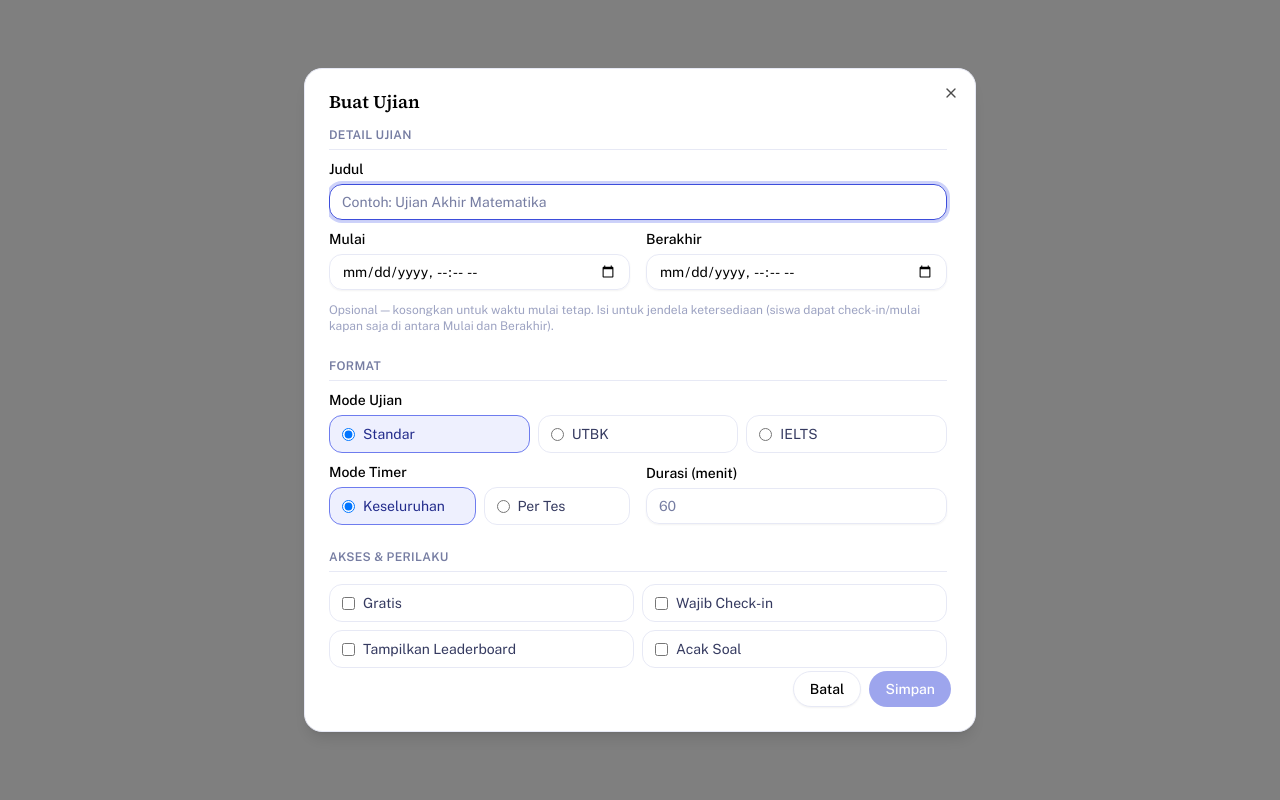
Test case: ExamModal › blocks submit and shows an error when end is not after start
The width and height of the screenshot is (1280, 800).
Type "Invalid Window Exam" into the field labelled "Judul". click: [638, 202]
box: [329, 184, 947, 220]
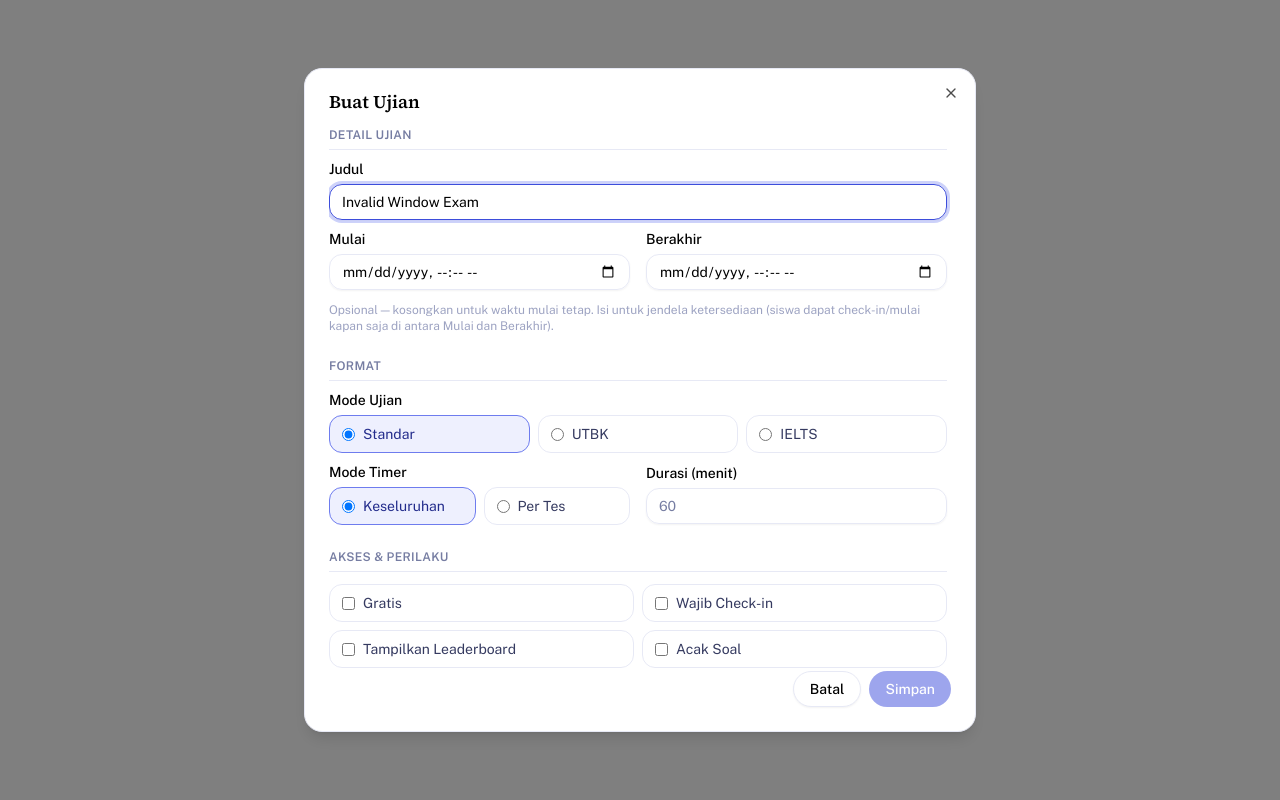
Type "2026-08-01T09:00" into the field labelled "Mulai". click: [480, 272]
box: [329, 254, 630, 290]
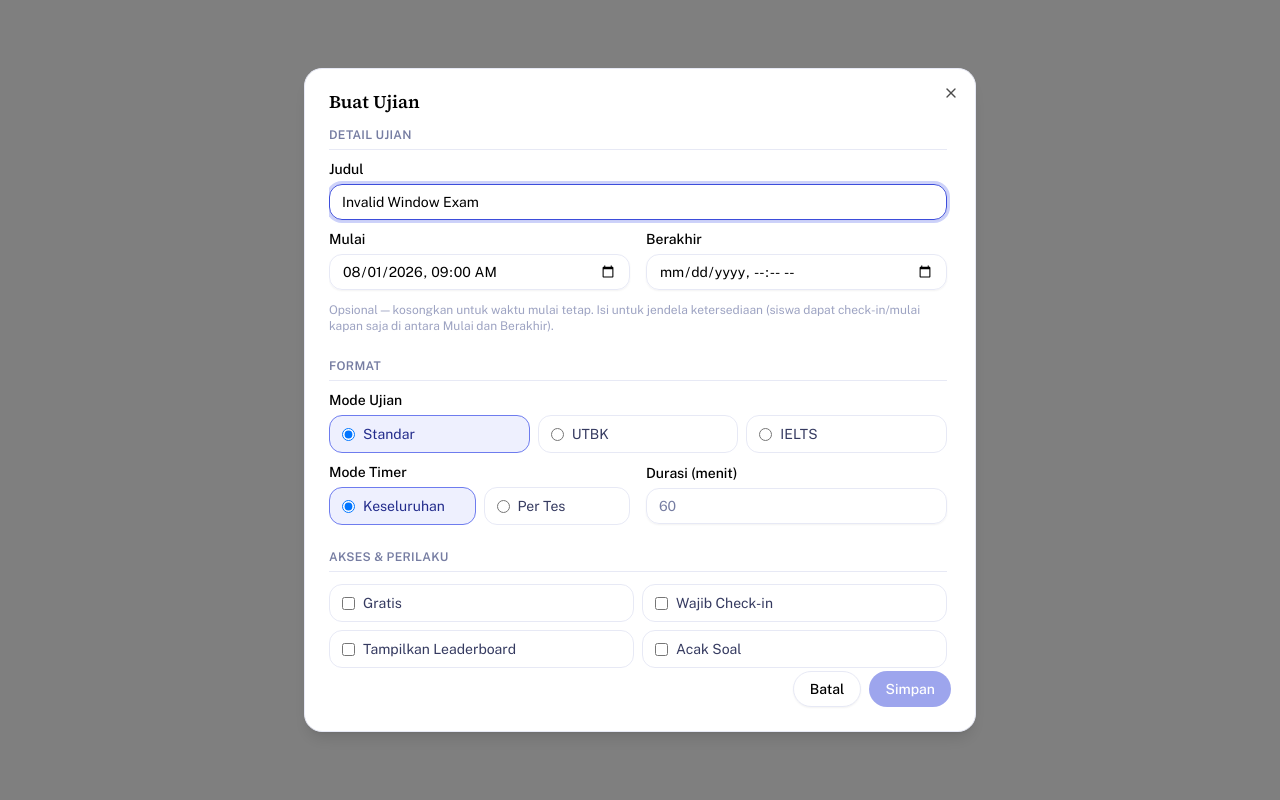
Type "2026-08-01T08:00" into the field labelled "Berakhir". click: [796, 272]
box: [646, 254, 947, 290]
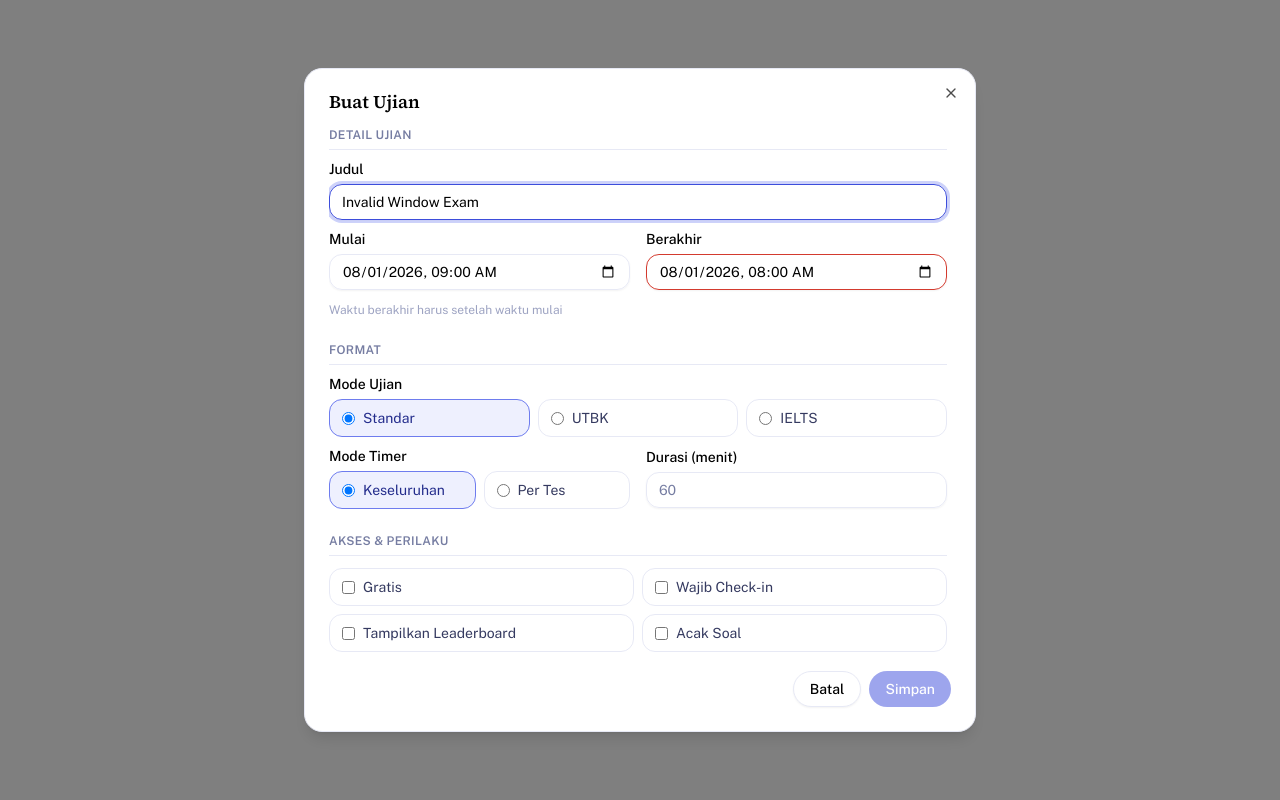
Check: the button "Simpan" is disabled, box [870, 671, 951, 707]
Check: the text "Waktu berakhir harus setelah waktu mulai" is shown, box [329, 303, 562, 317]
